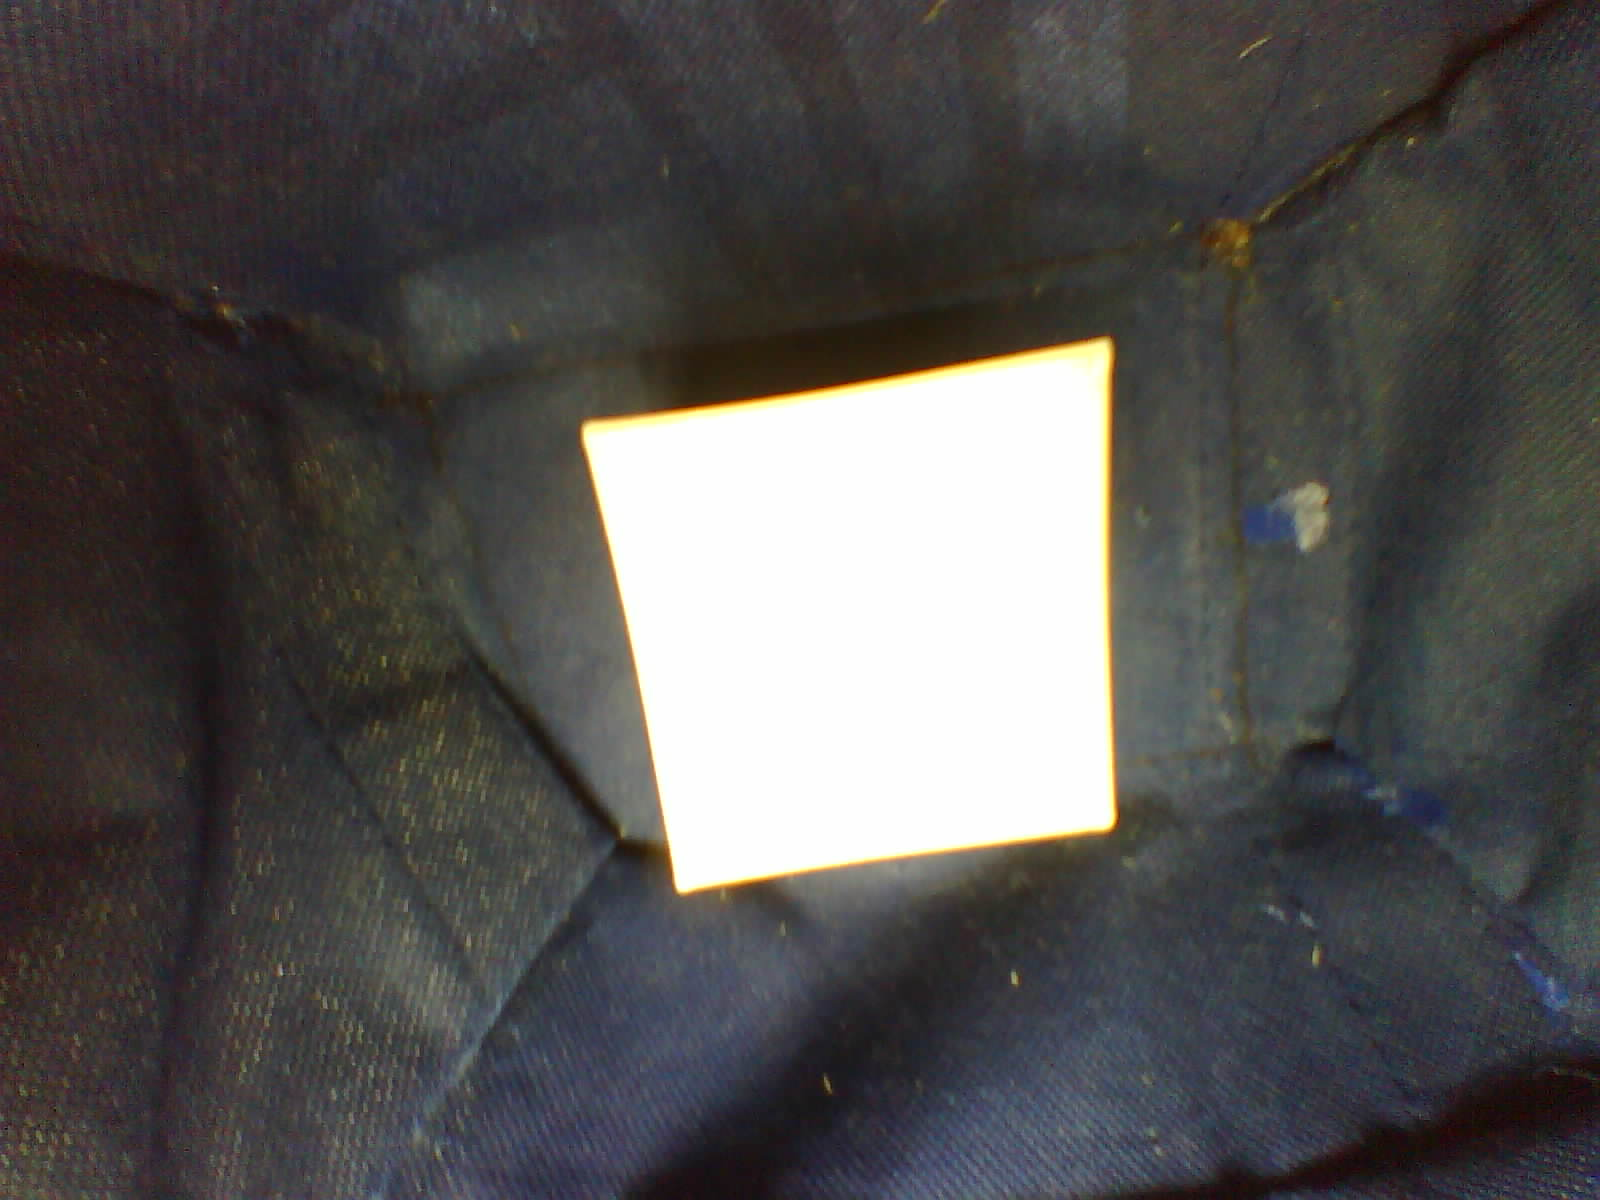cube-hard: (548, 314, 1162, 920)
